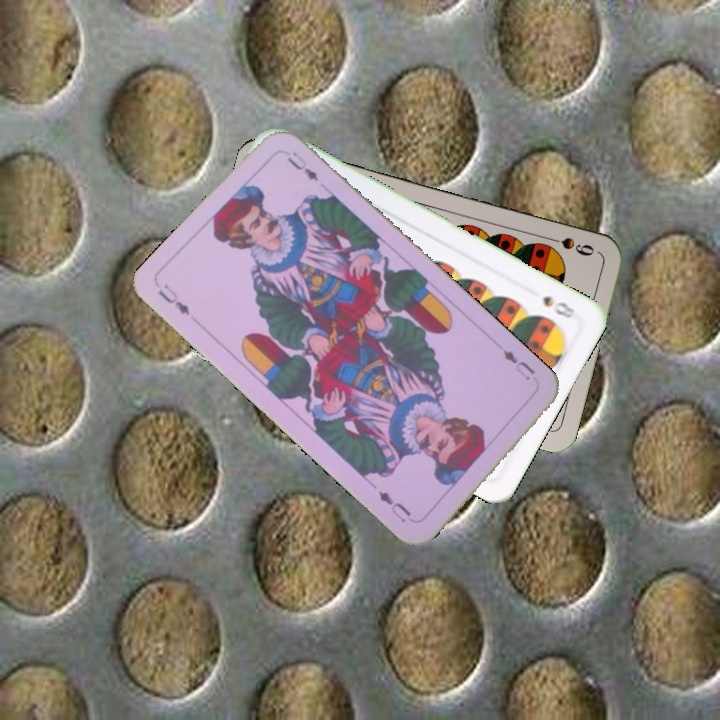EU: (153, 280, 192, 318), (498, 346, 538, 383)
S8: (538, 291, 583, 321)
S9: (540, 232, 597, 259)
